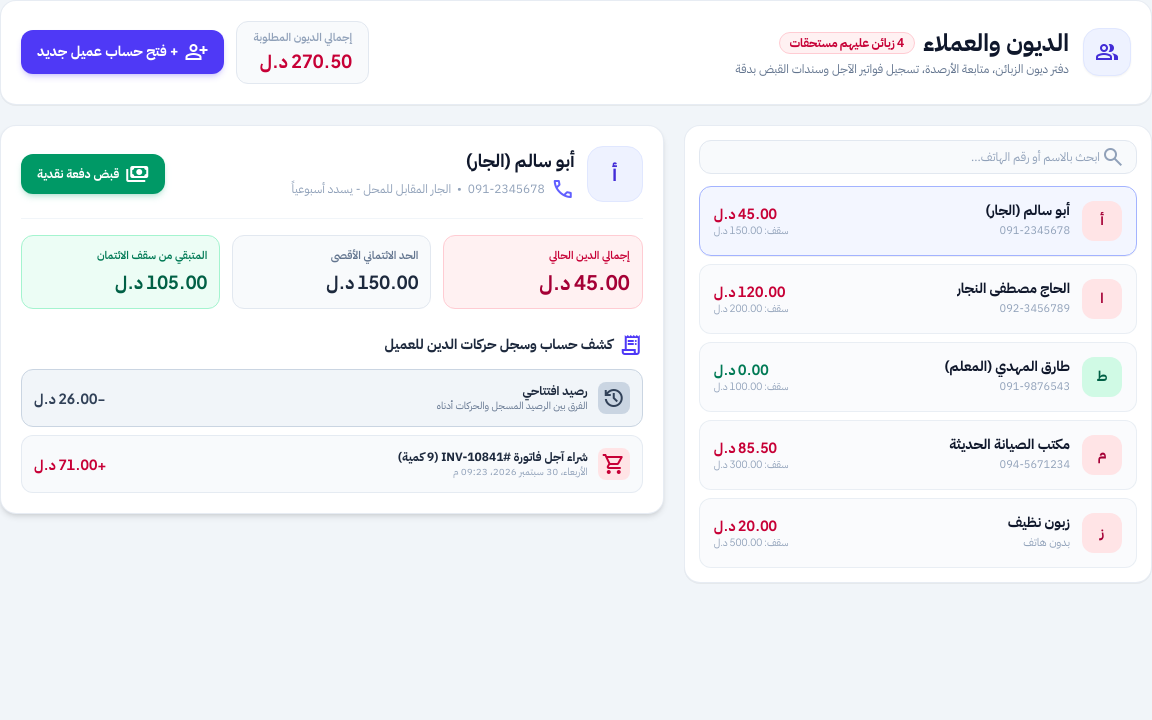
Test: DebtsView - customer statement › omits the opening line when the movements fully explain the balance
Click the text "زبون نظيف".
click(1039, 523)  # box [1008,513,1070,533]
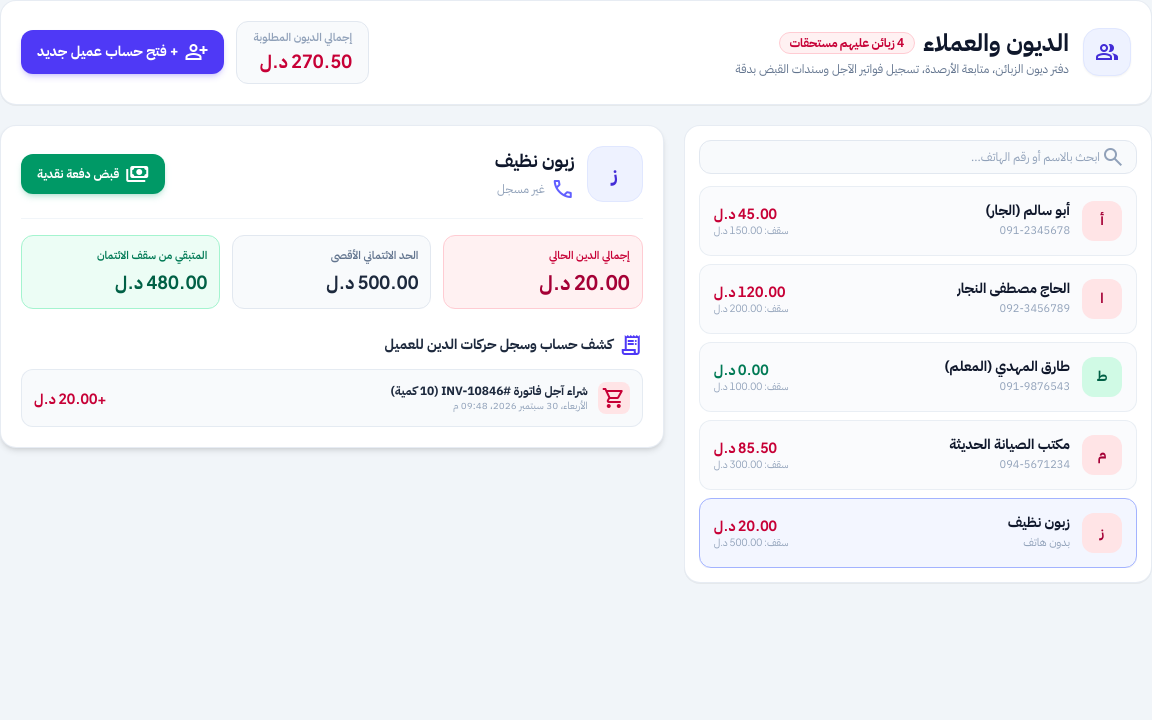
expect the text "رصيد افتتاحي" is gone: met
